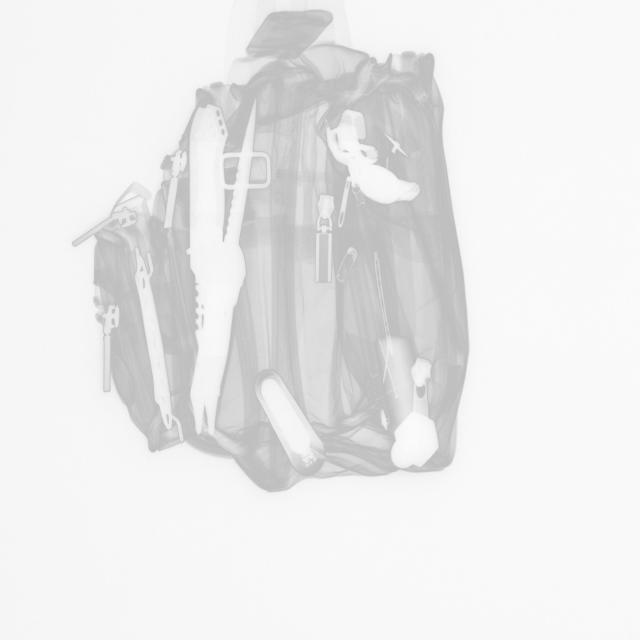knife: (182, 104, 222, 410)
